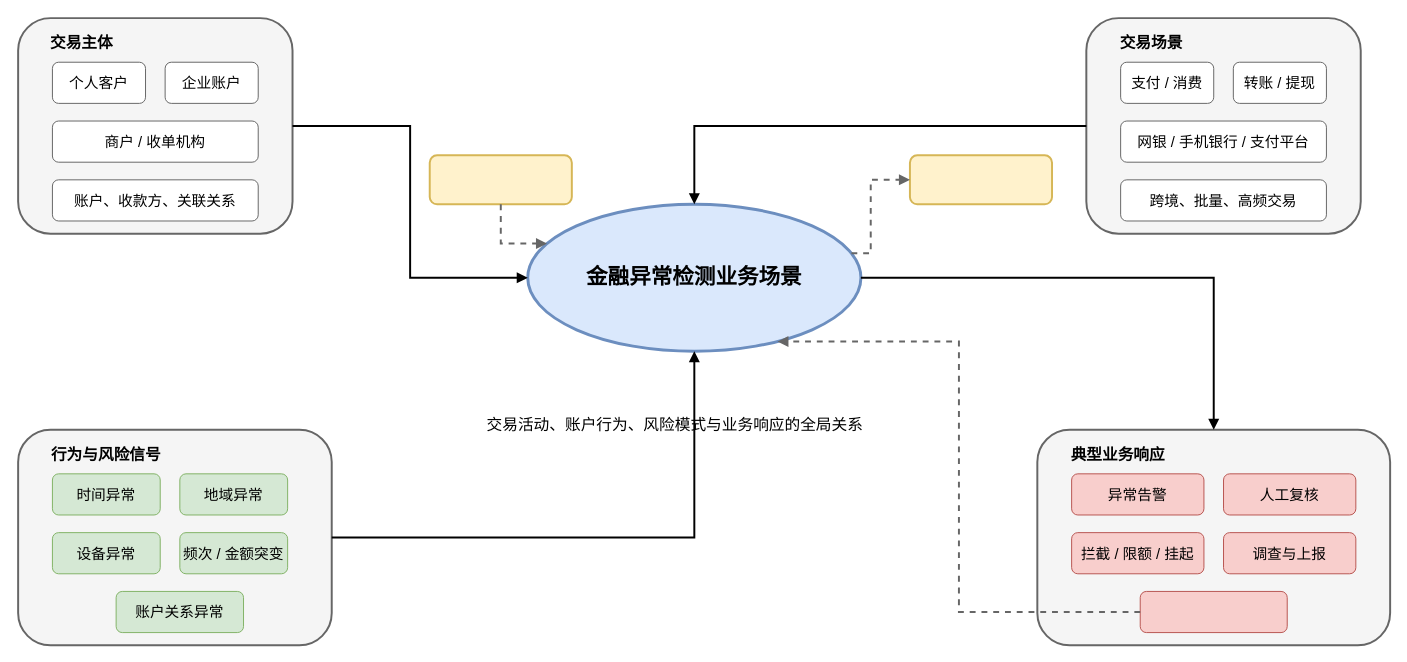
Image size: 1407x662. Some labels were removed from this diagram. The centre of each missing label's shape, as x and y in pixels:
"业务数据持续流入" goes at pixel 500 179.
"规则优化与模型迭代" goes at pixel 1213 611.
"风险事件持续输出" goes at pixel 980 179.
